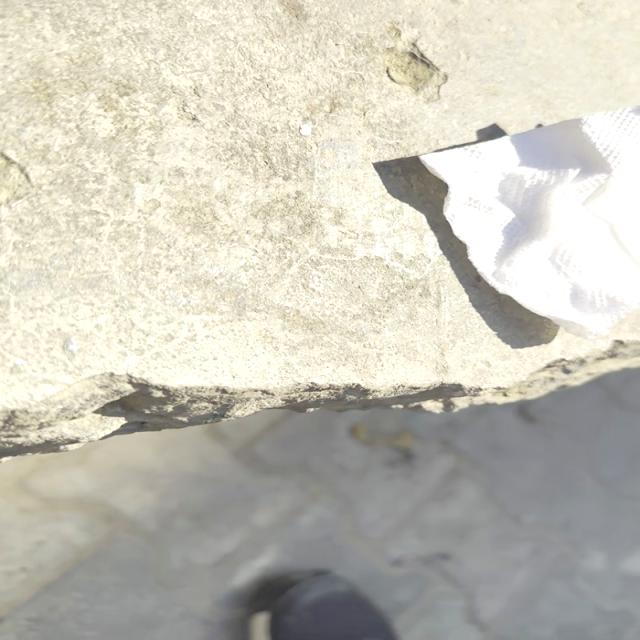tissue: (408, 103, 640, 340)
